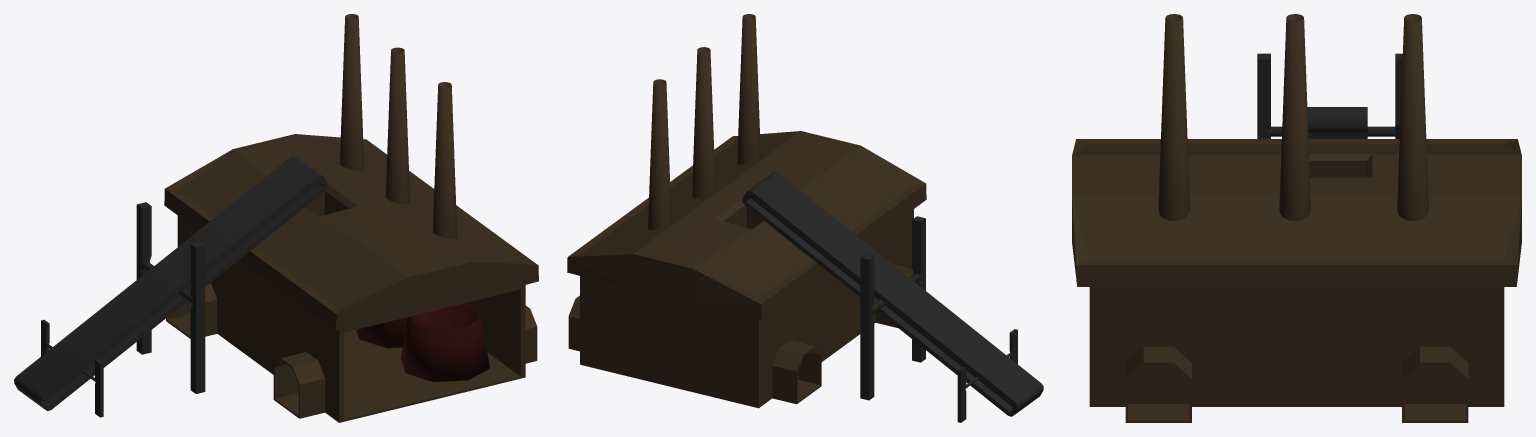
Rendered from Smelter.fbx.
3 renders of one model, left to right at view 1: azimuth 30°, elevation 25°; view 2: azimuth 150°, elevation 25°; view 3: azimuth 270°, elevation 25°, orthographic. The views are drawn at different scales.
Visible parts, largest first — view 1: Smelter, Conveyer Belt, Crucible; view 2: Smelter, Conveyer Belt; view 3: Smelter, Conveyer Belt.
Boxes of the visible parts, <box> form: Smelter: <box>164,14,538,422</box>; Conveyer Belt: <box>14,156,327,417</box>; Crucible: <box>356,303,489,382</box>; Smelter: <box>567,14,926,408</box>; Conveyer Belt: <box>742,172,1043,422</box>; Smelter: <box>1072,14,1521,422</box>; Conveyer Belt: <box>1257,53,1402,138</box>.
Bounding box in the file's own units: 920 × 574 × 651.
